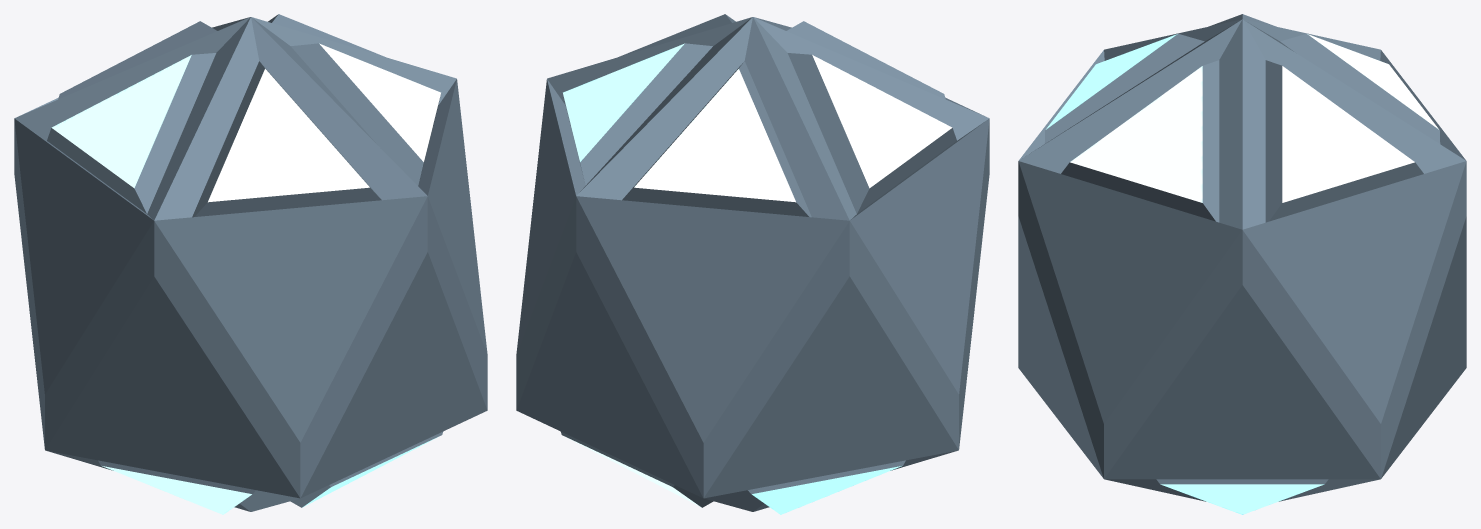
The model's file is blue_glow.fbx.
The picture shows the model from 3 angles, left to right: view 1: azimuth 30°, elevation 25°; view 2: azimuth 150°, elevation 25°; view 3: azimuth 270°, elevation 25°; orthographic projection.
Parts seen in each view (by area): view 1: Icosphere.001; view 2: Icosphere.001; view 3: Icosphere.001.
Boxes of the visible parts, left/top/right/bottom form: Icosphere.001: left=14, top=14, right=487, bottom=514; Icosphere.001: left=516, top=14, right=989, bottom=514; Icosphere.001: left=1018, top=14, right=1466, bottom=514.
Size of the model in its own units: 135 by 155 by 129.
